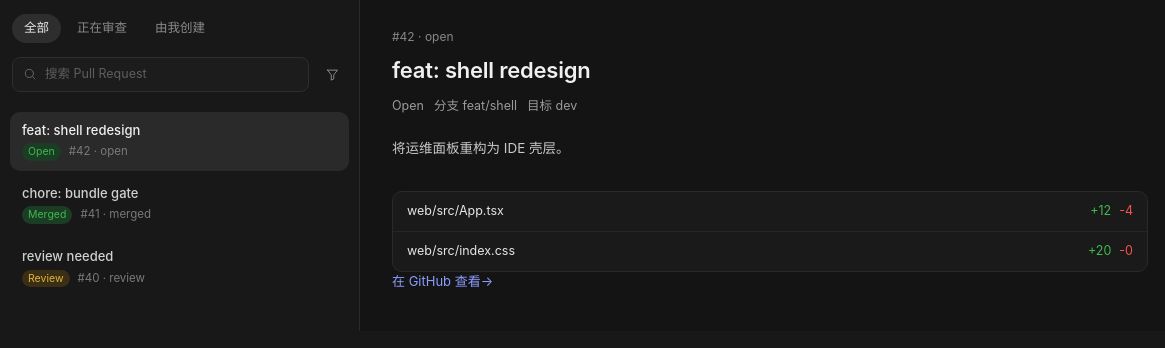
Scenario: PrView › 搜索只匹配 title/meta,不再把 tab 混入过滤(回归锁定 bug 修复)
Expected: the text "将运维面板重构为 IDE 壳层。" is shown, [392,140,570,156]
Type "bundle" into the search field labelled "搜索 Pull Request".
click(172, 74); type("bundle")  # box [45,65,298,84]
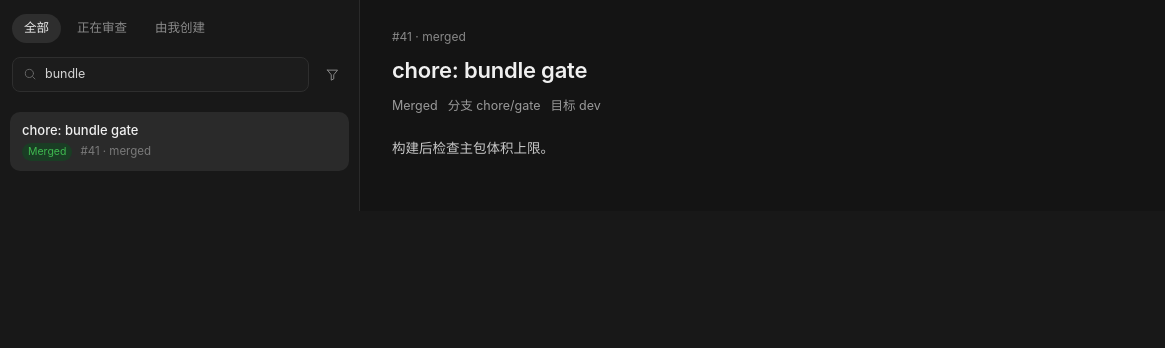
Result: the text "chore: bundle gate" is shown 2 times at [22,122,138,139]; [392,57,587,83]
Result: no buttons "feat: shell redesign" are shown
Result: no buttons "review needed" are shown
